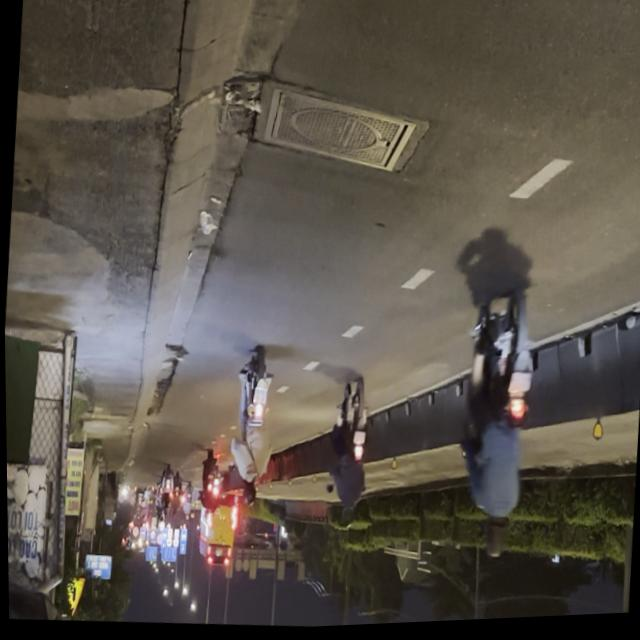helmet: (480, 519, 509, 564)
licenseplate: (446, 294, 543, 568)
nohelmet: (505, 374, 530, 399)
